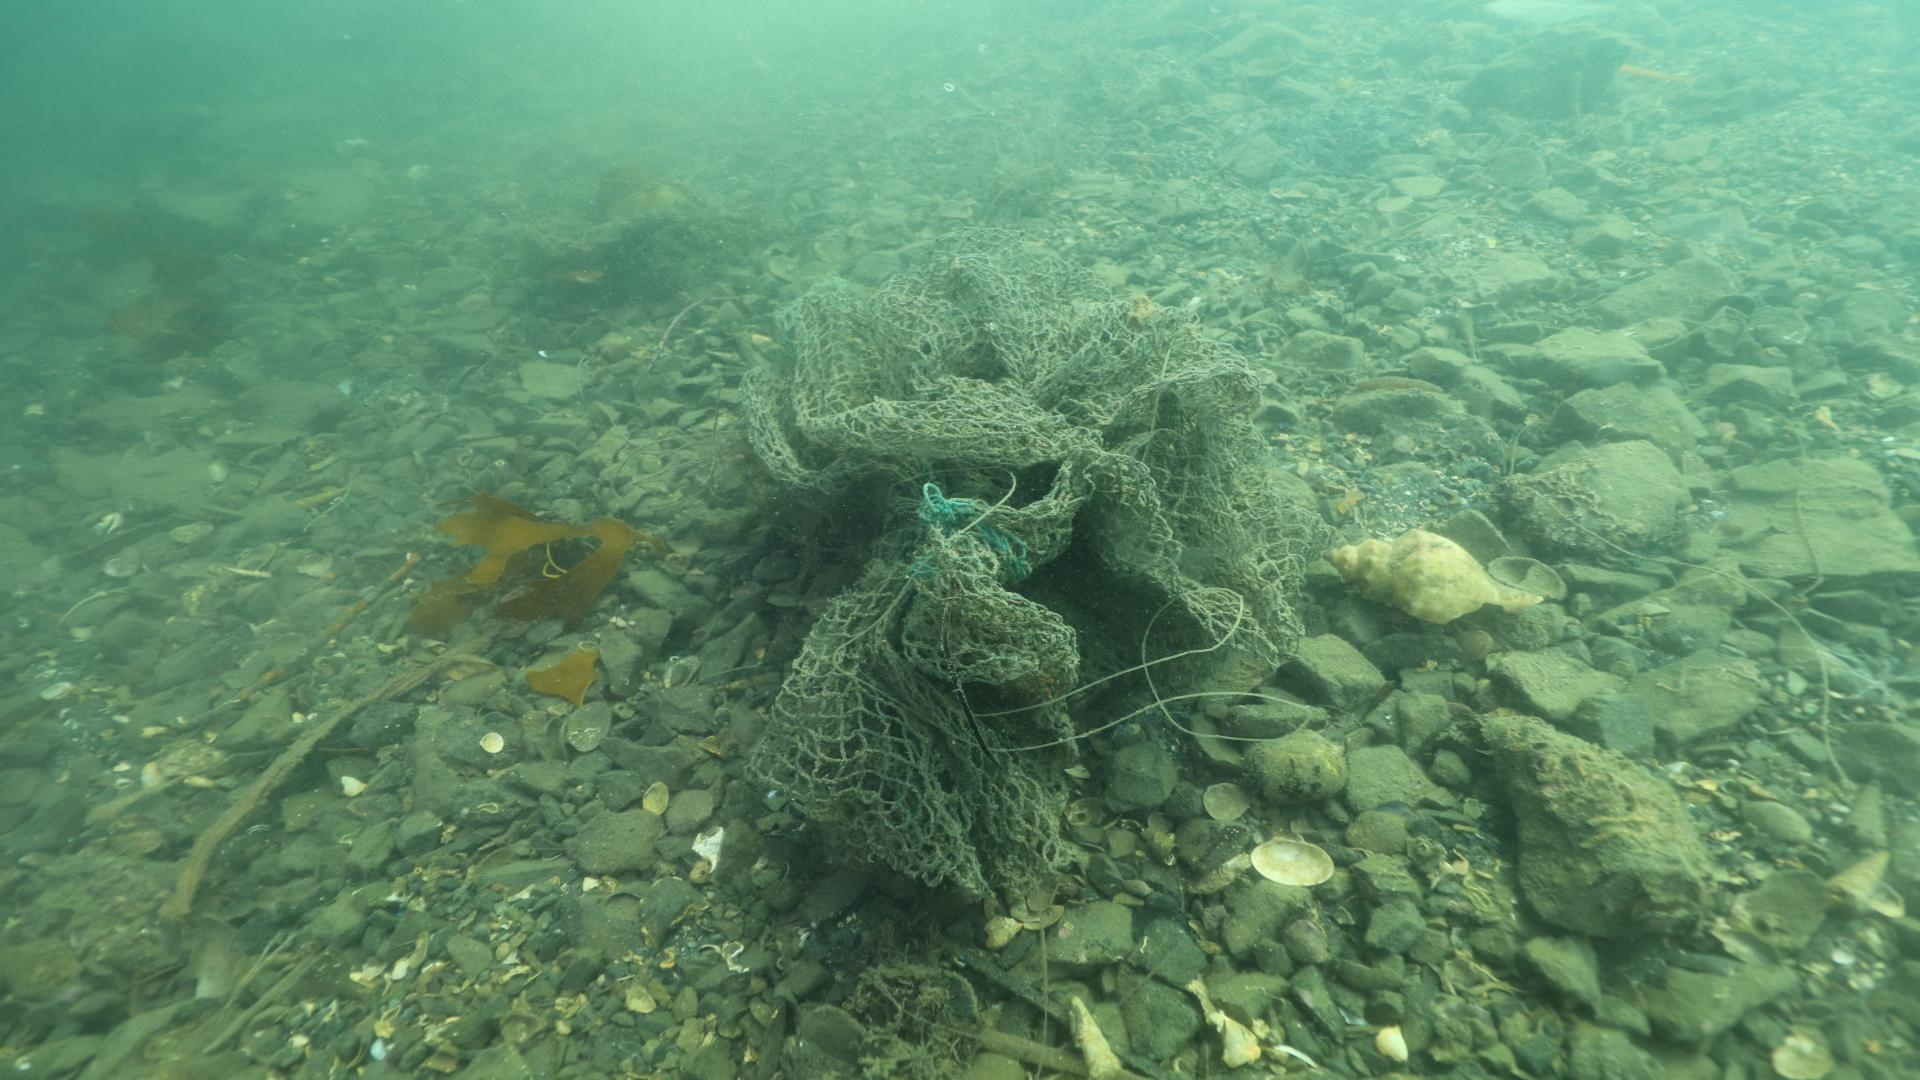fish net: (745, 223, 1316, 886)
